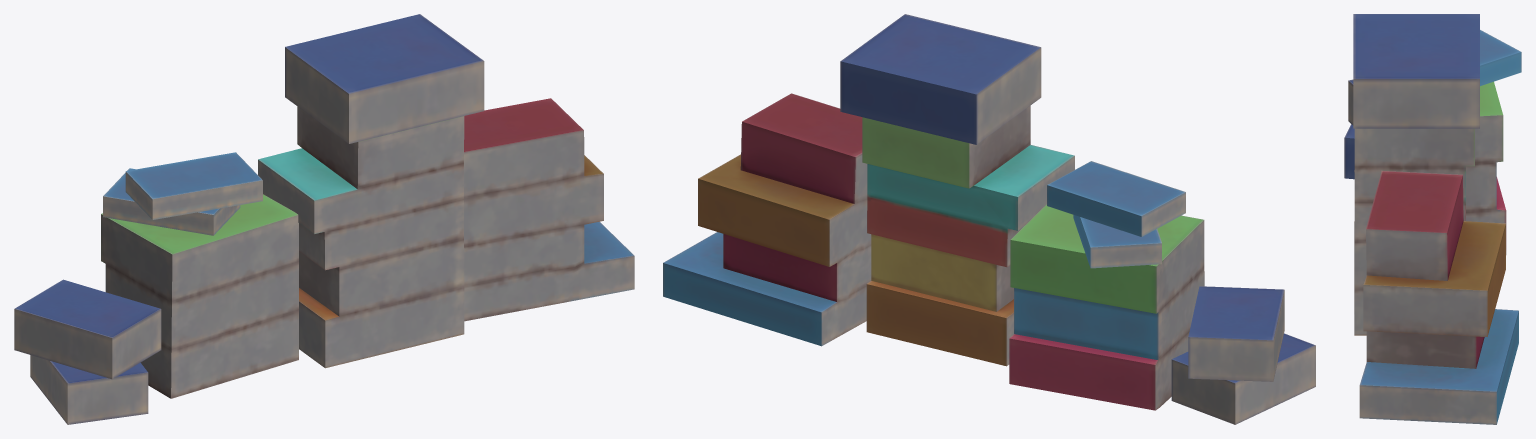
File: Pfb_Indoors_Books__15.fbx
3 views of the same model, side by side, from view 1: azimuth 30°, elevation 25°; view 2: azimuth 150°, elevation 25°; view 3: azimuth 270°, elevation 25° (orthographic).
Visible parts, largest first — view 1: Mat_Indoors_Books_01; view 2: Mat_Indoors_Books_01; view 3: Mat_Indoors_Books_01.
Boxes of the visible parts, x1,y1,x2,y2 form: Mat_Indoors_Books_01: (14,14,634,424); Mat_Indoors_Books_01: (663,14,1315,424); Mat_Indoors_Books_01: (1344,14,1521,424).
Size of the model in its own units: 1.89 by 0.8312 by 0.5001.
1 material, 1 textured.
